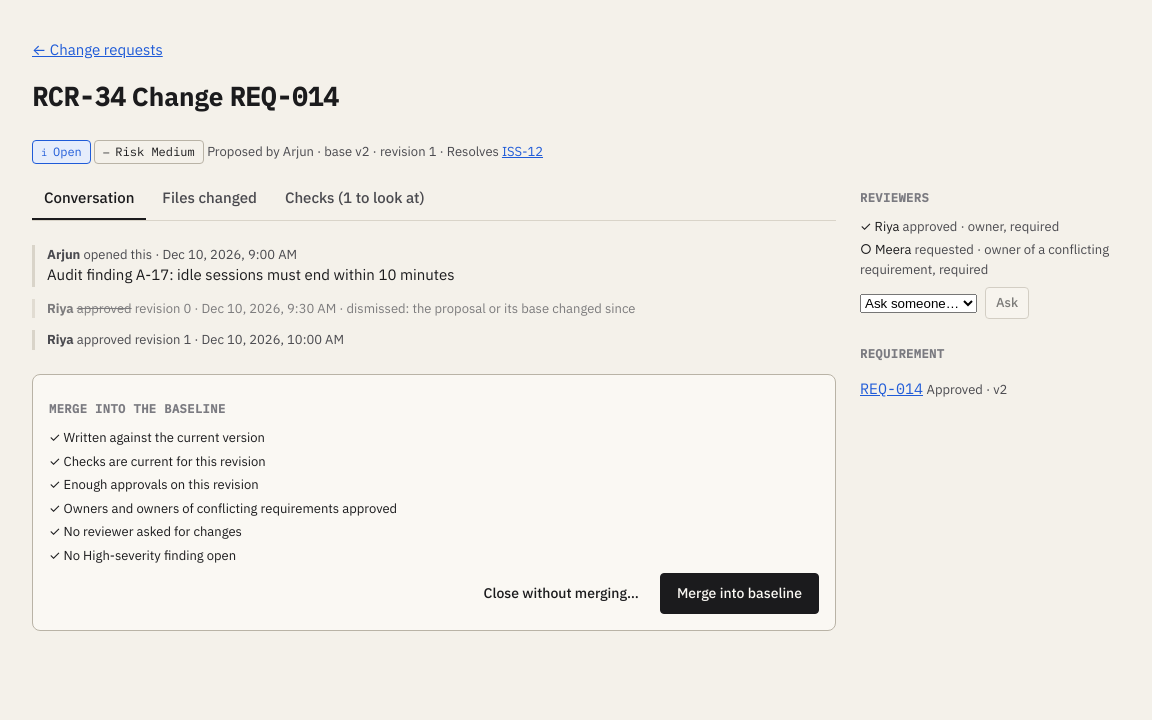
Test case: MergeBox › lists the unmet conditions from a 409 merge_blocked
Click the button "Merge into baseline": (739, 594) [660,573,819,614]
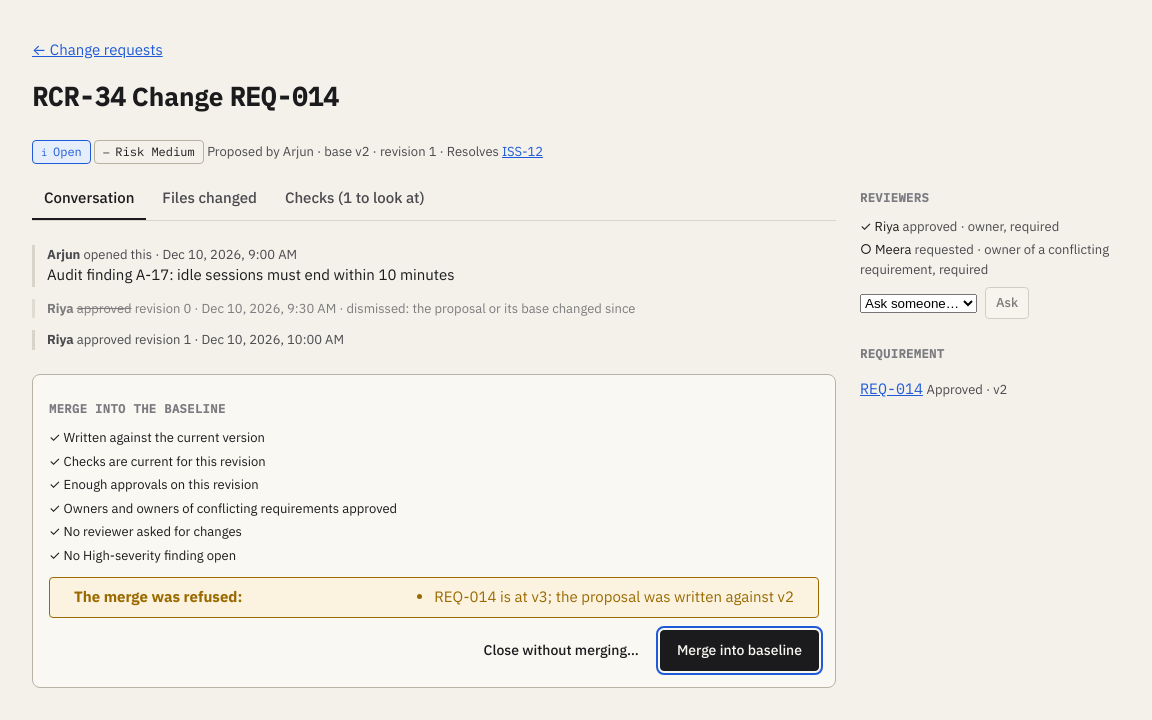
Expected: the message shows "The merge was refused", [74,587,242,606]
Expected: the message shows "REQ-014 is at v3; the proposal was written against v2", [434,587,794,606]
